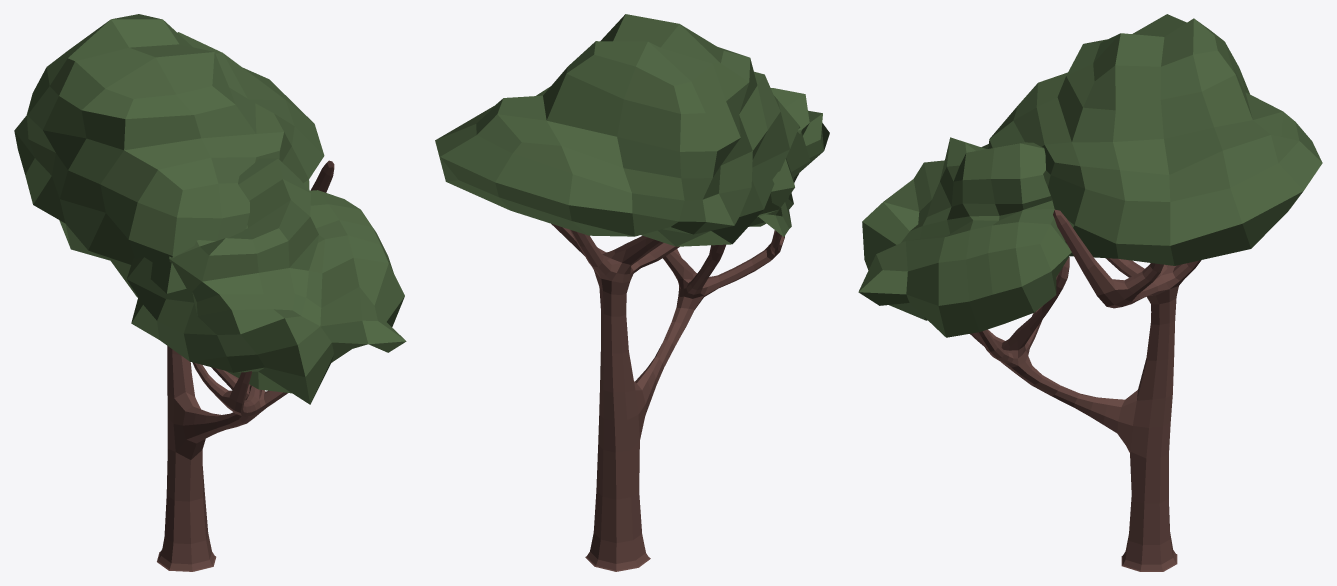
The model's file is CommonTree_2.glb.
The picture shows the model from 3 angles, left to right: view 1: azimuth 30°, elevation 25°; view 2: azimuth 150°, elevation 25°; view 3: azimuth 270°, elevation 25°; orthographic projection. The views are drawn at different scales.
Visible parts, largest first — view 1: CommonTree_2; view 2: CommonTree_2; view 3: CommonTree_2.
Boxes of the visible parts, bbox=[...] form: CommonTree_2: bbox=[14, 14, 406, 571]; CommonTree_2: bbox=[435, 14, 829, 571]; CommonTree_2: bbox=[858, 14, 1322, 571].
Size of the model in its own units: 1.66 by 3.12 by 2.54.
